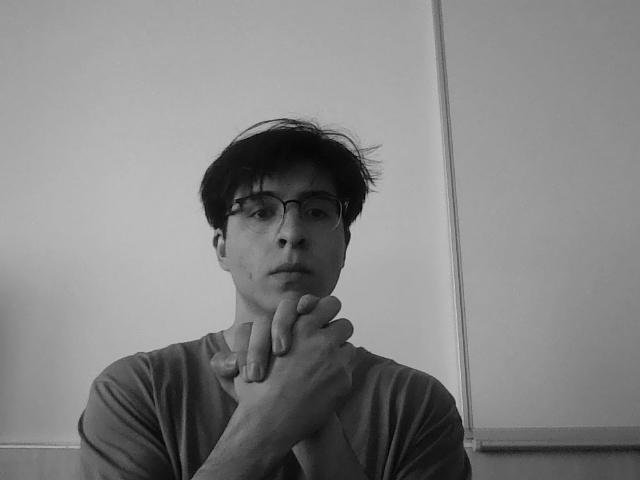friend: (206, 292, 360, 452)
